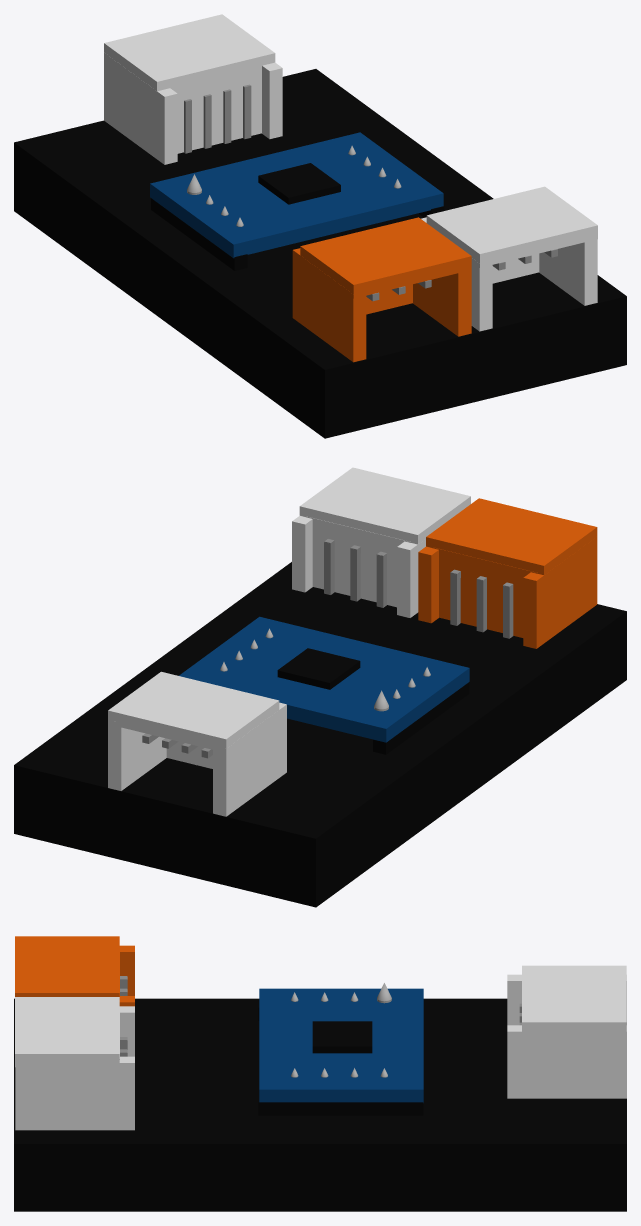
Rendered from Compass_Sensor.fbx.
3 renders of one model, top to bottom at view 1: azimuth 30°, elevation 25°; view 2: azimuth 150°, elevation 25°; view 3: azimuth 270°, elevation 25°, orthographic.
Visible parts, largest first — view 1: ROOOO:pasted__pasted__pasted__pasted__pCube14, ROOOO:pasted__pasted__pasted__pCube3, ROOOO:pasted__pasted__pasted__pCube5, ROOOO:pasted__pasted__pasted__pCube24, ROOOO:pasted__pasted__pasted__pCube16, ROOOO:pasted__pasted__pasted__pCube4, ROOOO:pasted__pasted__pasted__pCube22, ROOOO:pasted__pasted__pasted__pCube18, ROOOO:pasted__pasted__pasted__pasted__pCube16, ROOOO:pasted__pasted__pasted__pasted__pCube4, ROOOO:pasted__pasted__pasted__pCube21, ROOOO:pasted__pasted__pasted__pasted__pCube1 (+4 smaller); view 2: ROOOO:pasted__pasted__pasted__pasted__pCube14, ROOOO:pasted__pasted__pasted__pCube3, ROOOO:pasted__pasted__pasted__pCube16, ROOOO:pasted__pasted__pasted__pCube5, ROOOO:pasted__pasted__pasted__pCube24, ROOOO:pasted__pasted__pasted__pCube22, ROOOO:pasted__pasted__pasted__pCube4, ROOOO:pasted__pasted__pasted__pCube20, ROOOO:pasted__pasted__pasted__pCube6, ROOOO:pasted__pasted__pasted__pasted__pCube1, ROOOO:pasted__pasted__pasted__pCube21, ROOOO:pasted__pasted__pasted__pCube28 (+4 smaller); view 3: ROOOO:pasted__pasted__pasted__pasted__pCube14, ROOOO:pasted__pasted__pasted__pCube3, ROOOO:pasted__pasted__pasted__pasted__pCube4, ROOOO:pasted__pasted__pasted__pasted__pCube1, ROOOO:pasted__pasted__pasted__pCube24, ROOOO:pasted__pasted__pasted__pCube16, ROOOO:pasted__pasted__pasted__pCube5, ROOOO:pasted__pasted__pasted__pCube23, ROOOO:pasted__pasted__pasted__pCube21, ROOOO:pasted__pasted__pasted__pCube13, ROOOO:pasted__pasted__pasted__pCube4, ROOOO:pasted__pasted__pasted__pCube28 (+1 smaller).
Part boxes in pixels (x1,y1,x2,y2): ROOOO:pasted__pasted__pasted__pasted__pCube14: (14,69,626,438); ROOOO:pasted__pasted__pasted__pCube3: (150,132,443,258); ROOOO:pasted__pasted__pasted__pCube5: (300,217,471,298); ROOOO:pasted__pasted__pasted__pCube24: (426,186,597,267); ROOOO:pasted__pasted__pasted__pCube16: (104,14,275,91); ROOOO:pasted__pasted__pasted__pCube4: (104,52,177,164); ROOOO:pasted__pasted__pasted__pCube22: (292,248,366,362); ROOOO:pasted__pasted__pasted__pCube18: (175,70,261,153); ROOOO:pasted__pasted__pasted__pasted__pCube16: (413,270,471,336); ROOOO:pasted__pasted__pasted__pasted__pCube4: (539,239,597,305); ROOOO:pasted__pasted__pasted__pCube21: (258,163,340,204); ROOOO:pasted__pasted__pasted__pasted__pCube1: (262,62,282,139); ROOOO:pasted__pasted__pasted__pasted__pCube14: (14,562,626,907); ROOOO:pasted__pasted__pasted__pCube3: (179,616,469,742); ROOOO:pasted__pasted__pasted__pCube16: (108,671,279,749); ROOOO:pasted__pasted__pasted__pCube5: (426,498,597,574); ROOOO:pasted__pasted__pasted__pCube24: (299,467,470,544); ROOOO:pasted__pasted__pasted__pCube22: (523,537,597,648); ROOOO:pasted__pasted__pasted__pCube4: (213,702,286,816); ROOOO:pasted__pasted__pasted__pCube20: (306,516,411,607); ROOOO:pasted__pasted__pasted__pCube6: (432,547,537,637); ROOOO:pasted__pasted__pasted__pasted__pCube1: (108,720,166,790); ROOOO:pasted__pasted__pasted__pCube21: (277,648,360,689); ROOOO:pasted__pasted__pasted__pCube28: (397,539,425,617); ROOOO:pasted__pasted__pasted__pasted__pCube14: (14,998,626,1211); ROOOO:pasted__pasted__pasted__pCube3: (259,988,423,1102); ROOOO:pasted__pasted__pasted__pasted__pCube4: (15,1056,134,1130); ROOOO:pasted__pasted__pasted__pasted__pCube1: (507,1025,626,1098); ROOOO:pasted__pasted__pasted__pCube24: (15,997,119,1067); ROOOO:pasted__pasted__pasted__pCube16: (522,965,626,1035); ROOOO:pasted__pasted__pasted__pCube5: (15,936,119,996); ROOOO:pasted__pasted__pasted__pCube23: (259,1097,423,1115); ROOOO:pasted__pasted__pasted__pCube21: (312,1021,372,1053); ROOOO:pasted__pasted__pasted__pCube13: (258,1096,422,1115); ROOOO:pasted__pasted__pasted__pCube4: (507,974,626,1025); ROOOO:pasted__pasted__pasted__pCube28: (119,1006,134,1056).
Size of the model in its own units: 2.76 by 1.28 by 4.92.
